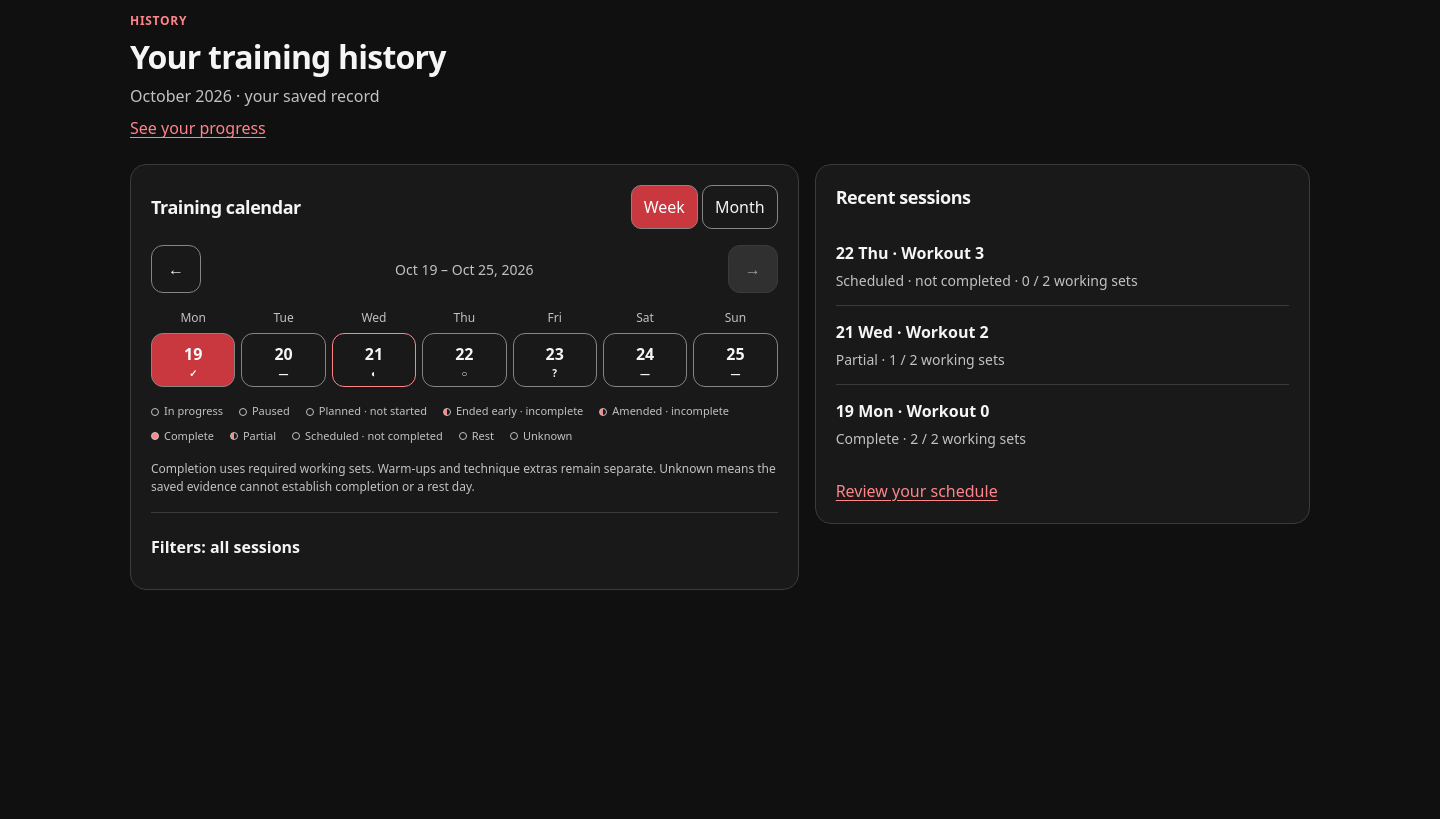
Scenario: late day detail cannot replace a newer selected date
The width and height of the screenshot is (1440, 819).
Click the button named "2026-10-19: Complete" at (193, 360), box [151, 333, 235, 387]
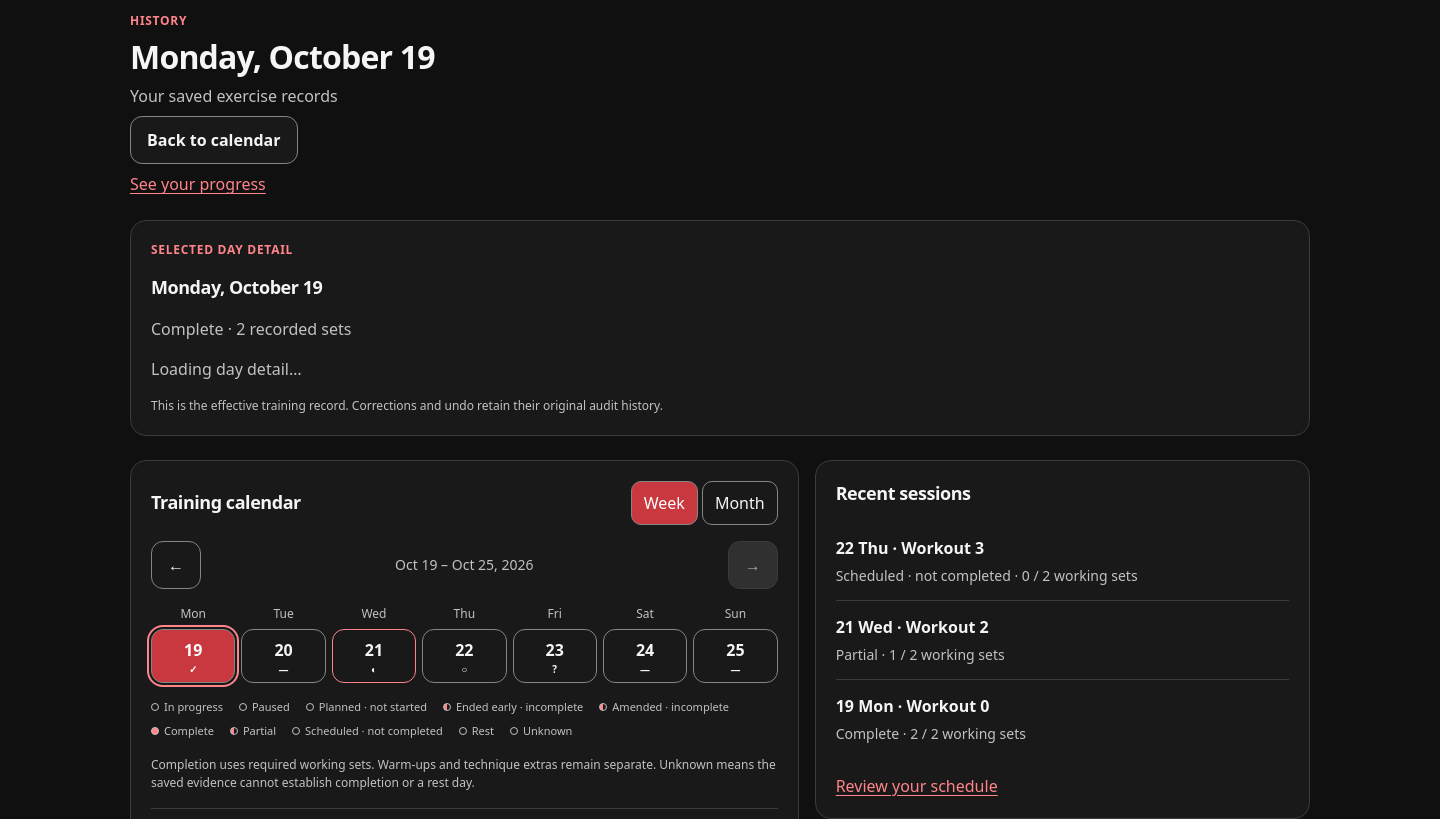
Click the button named "2026-10-21: Partial" at (374, 656), box [332, 629, 416, 683]
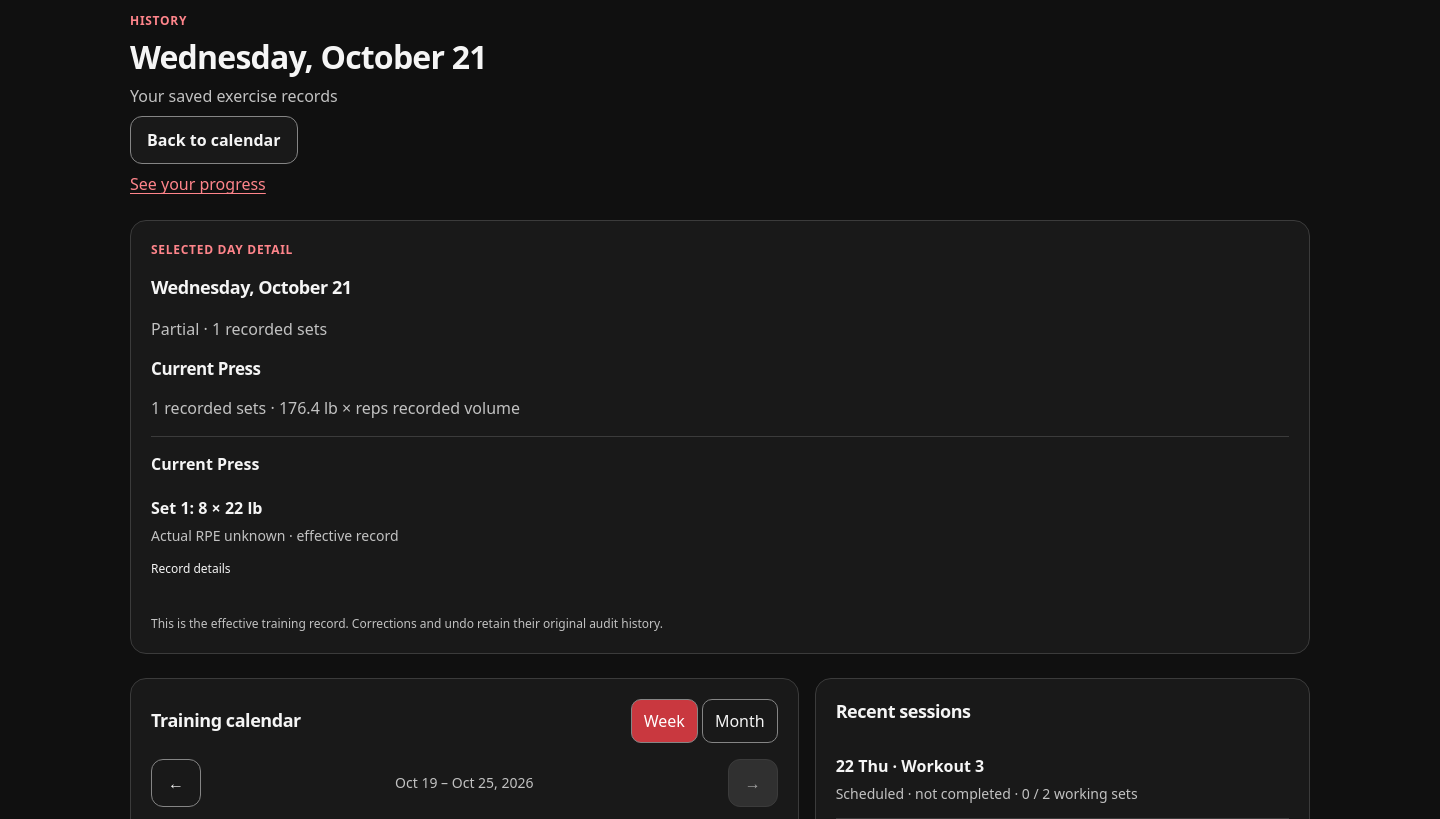
Expected: the 1st heading "Current Press" is shown, [151, 357, 261, 380]
